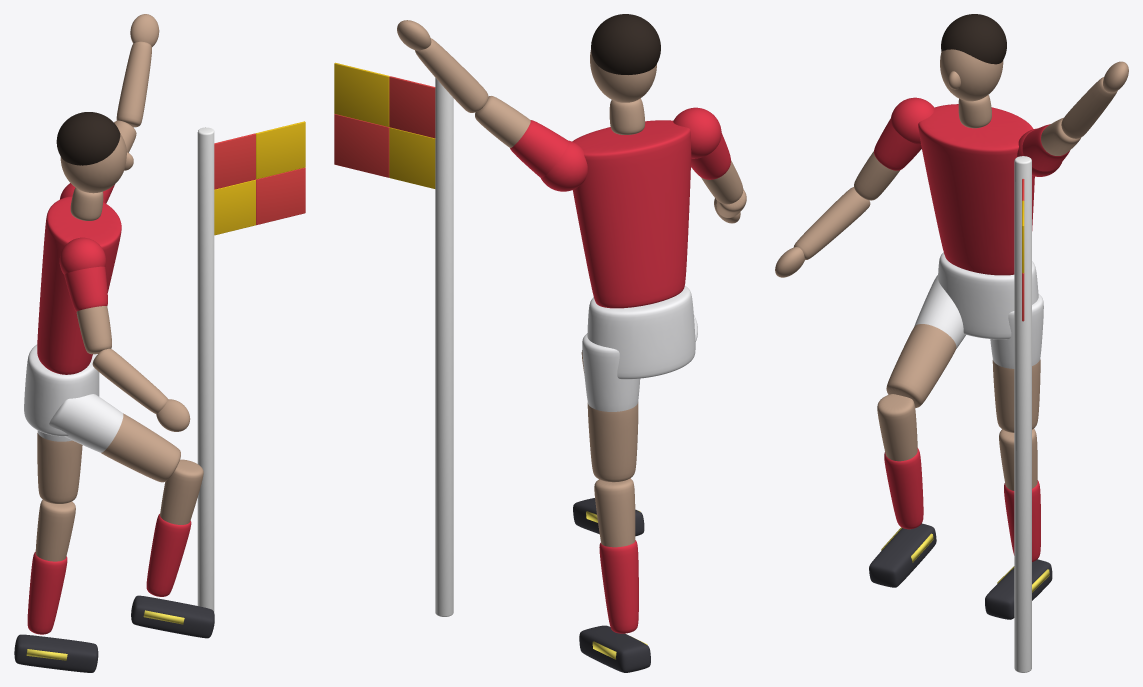
The model's file is reward-celeb-corner-flag.glb.
The picture shows the model from 3 angles, left to right: view 1: azimuth 30°, elevation 25°; view 2: azimuth 150°, elevation 25°; view 3: azimuth 270°, elevation 25°; orthographic projection. The views are drawn at different scales.
Visible parts, largest first — view 1: flagpole, Cone.001, Cone, Cone.014, Cone.013, Sphere.001, Cone.007, Cone.016, Cone.009, flag.002, Cube, Cube.002 (+14 smaller); view 2: Cone.001, flagpole, Cone, Sphere.001, Cone.007, Cone.009, flag.002, Cone.006, flag.003, Cone.008, flag, flag.001 (+12 smaller); view 3: Cone.001, flagpole, Cone, Cone.014, Sphere.001, Cube.002, Cone.015, Cone.016, Sphere, Cone.012, Cone.007, Cone.013 (+13 smaller).
Part boxes in pixels (x1,y1,x2,y2): flagpole: (197,127,214,612); Cone.001: (37,196,121,374); Cone: (24,344,99,436); Cone.014: (101,413,180,482); Cone.013: (49,394,123,452); Sphere.001: (56,112,120,165); Cone.007: (37,433,82,503); Cone.016: (146,514,191,596); Cone.009: (27,552,67,634); flag.002: (255,121,305,179); Cube: (14,634,98,672); Cube.002: (131,595,214,638); Cone.001: (572,120,691,308); flagpole: (435,78,453,616); Cone: (587,285,695,379); Sphere.001: (591,14,660,74); Cone.007: (587,402,638,482); Cone.009: (599,540,638,633); flag.002: (334,62,389,126); Cone.006: (582,333,640,411); flag.003: (334,114,389,177); Cone.008: (594,478,635,547); flag: (389,76,435,138); flag.001: (389,127,435,188); Cone.001: (918,104,1034,275); flagpole: (1014,156,1031,672); Cone: (938,252,1038,339); Cone.014: (886,324,956,407); Sphere.001: (941,14,1006,64); Cube.002: (869,523,936,587); Cone.015: (877,394,917,461); Cone.016: (884,448,923,529); Sphere: (940,49,1003,101); Cone.012: (793,187,870,259); Cone.007: (992,359,1040,432); Cone.013: (914,275,965,348).
Bounding box in the file's own units: 2.03 × 3.83 × 2.01.
